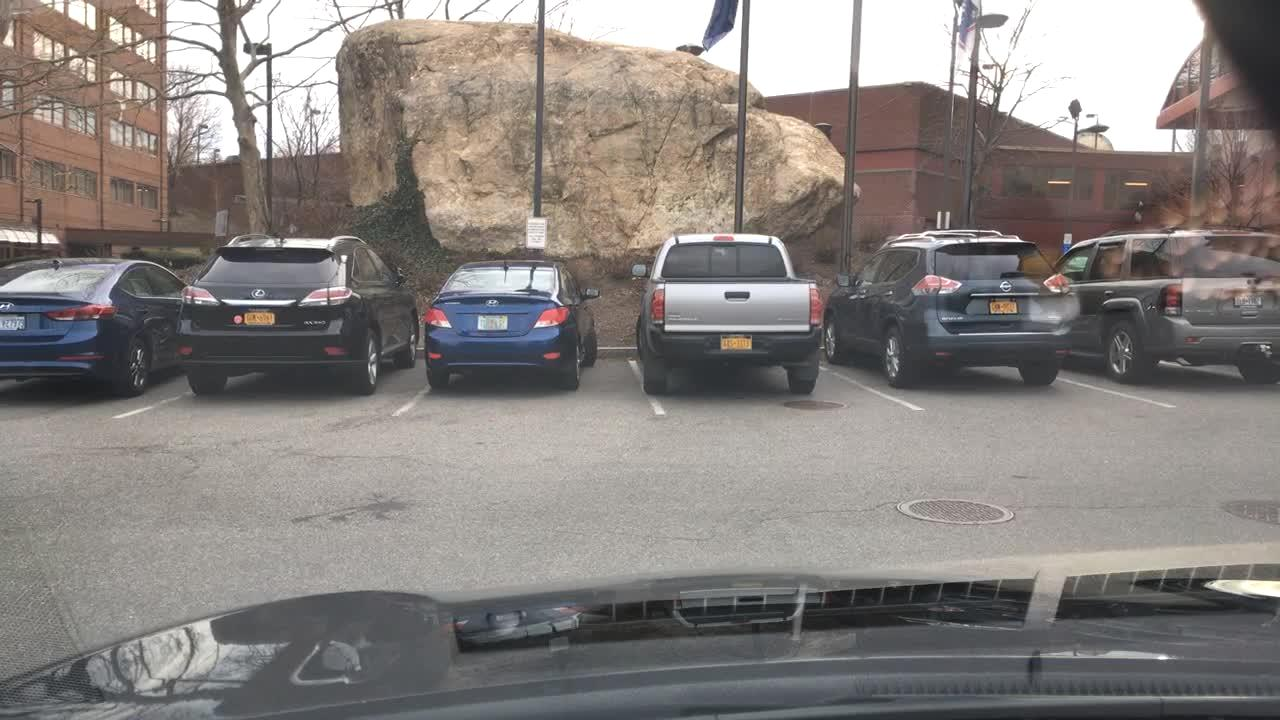Hyundai: (480, 294, 504, 316), (0, 297, 21, 319)
Nissan: (992, 279, 1017, 296)
lexus: (247, 288, 272, 300)
